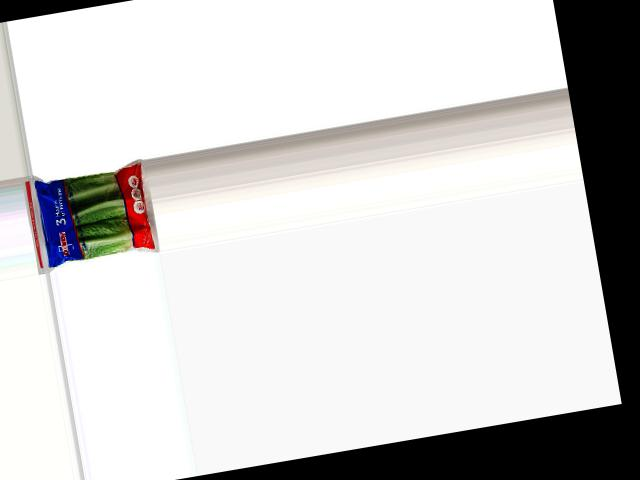lettuce: (31, 160, 160, 269)
